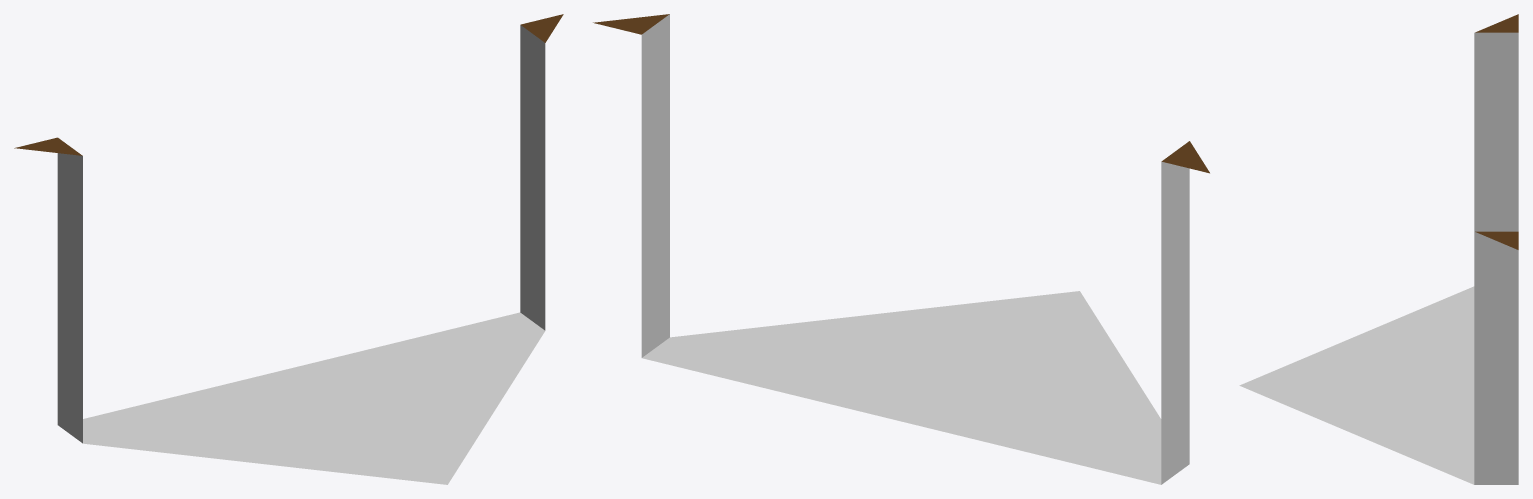
Rendered from Open.fbx.
3 renders of one model, left to right at view 1: azimuth 30°, elevation 25°; view 2: azimuth 150°, elevation 25°; view 3: azimuth 270°, elevation 25°, orthographic. The views are drawn at different scales.
Parts seen in each view (by area): view 1: Open; view 2: Open; view 3: Open.
Boxes of the visible parts, x1=… form: Open: x1=14, y1=14, x2=563, y2=484; Open: x1=593, y1=14, x2=1209, y2=484; Open: x1=1239, y1=14, x2=1518, y2=484.
Size of the model in its own units: 400 by 200 by 200.
